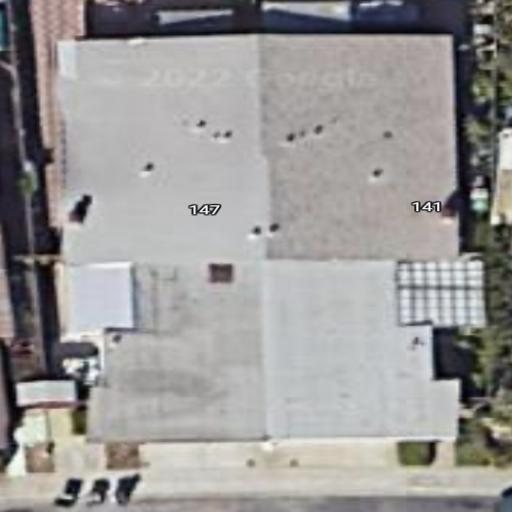Slope-Roof: (59, 35, 465, 442)
